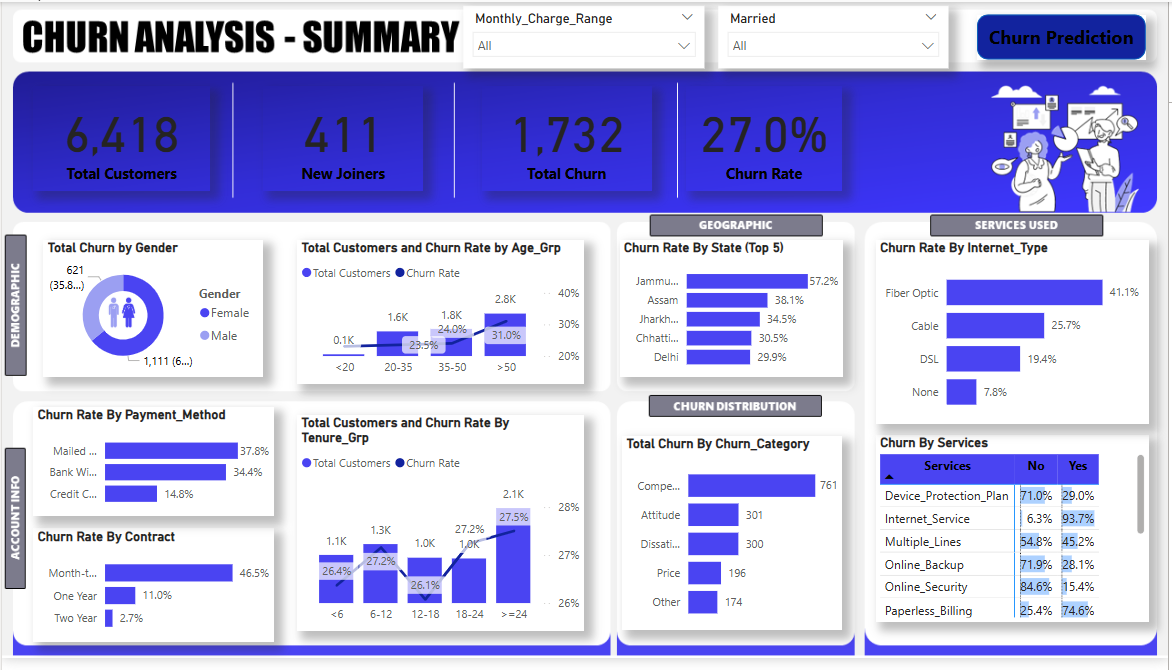

The dashboard page shown, as its layout file describes it:
{"tool":"powerbi","page":{"name":"Summary","canvas":[1280,720],"ordinal":0},"visuals":[{"type":"image","box":[90.7,314,82.6,52.3],"z":0},{"type":"donutChart","fields":{"Category":["prod_Churn.Gender"],"Y":["Table_Measures.Total Churn"]},"box":[45.3,260.5,241.9,150],"z":1000},{"type":"card","fields":{"Values":["Table_Measures.Total Customers"]},"box":[33.7,91.9,194.2,115.1],"z":2000},{"type":"card","fields":{"Values":["Table_Measures.New Joiners"]},"box":[287.2,91.9,175.6,115.1],"z":3000},{"type":"card","fields":{"Values":["Table_Measures.Total Churn"]},"box":[526.7,91.9,186,115.1],"z":4000},{"type":"card","fields":{"Values":["Table_Measures.Churn Rate"]},"box":[751.2,91.9,172.1,115.1],"z":5000},{"type":"lineStackedColumnComboChart","fields":{"Category":["Mapping_AgeGrp.Age_Grp"],"Y":["Table_Measures.Total Customers"],"Y2":["Table_Measures.Churn Rate"]},"box":[324.4,260.5,315.1,158.1],"z":6000},{"type":"clusteredBarChart","title":"Churn Rate By Payment_Method","fields":{"Category":["prod_Churn.Payment_Method"],"Y":["Table_Measures.Churn Rate"]},"box":[33.7,444.2,264,119.8],"z":7000},{"type":"clusteredBarChart","title":"Churn Rate By Contract","fields":{"Category":["prod_Churn.Contract"],"Y":["Table_Measures.Churn Rate"]},"box":[33.7,577.9,264,124.4],"z":8000},{"type":"lineStackedColumnComboChart","title":"Total Customers and Churn Rate By Tenure_Grp","fields":{"Category":["Mapping_TenureGrp.Tenure_Grp"],"Y":["Table_Measures.Total Customers"],"Y2":["Table_Measures.Churn Rate"]},"box":[324.4,453.5,315.1,237.2],"z":9000},{"type":"clusteredBarChart","title":"Churn Rate By State (Top 5)","fields":{"Category":["prod_Churn.State"],"Y":["Table_Measures.Churn Rate"]},"box":[677.9,260.5,245.3,151.2],"z":10000},{"type":"clusteredBarChart","title":"Total Churn By Churn_Category","fields":{"Category":["prod_Churn.Churn_Category"],"Y":["Table_Measures.Total Churn"]},"box":[680.2,476.7,241.9,214],"z":11000},{"type":"clusteredBarChart","title":"Churn Rate By Internet_Type","fields":{"Category":["prod_Churn.Internet_Type"],"Y":["Table_Measures.Churn Rate"]},"box":[959.3,260.5,300,202.3],"z":12000},{"type":"pivotTable","title":"Churn By Services","fields":{"Rows":["prod_churn_services.Services"],"Columns":["prod_churn_services.Status"],"Values":["Sum(prod_churn_services.Churn_Status)"]},"box":[959.3,474.4,300,205.8],"z":13000},{"type":"slicer","fields":{"Values":["prod_Churn.Monthly_Charge_Status"]},"box":[506.3,4.1,264.8,68.6],"z":14000},{"type":"slicer","fields":{"Values":["prod_Churn.Married"]},"box":[786.3,4.1,252.5,68.6],"z":15000},{"type":"shape","box":[1070.3,13.7,185.2,49.4],"z":16000}]}

Visuals, with their boxes in screenshot pixels (x1, y1, x2, y2), scaled from the page's 1280x720 canvas onto the 1172x670 screenshot:
image: 83:292:159:341
donutChart - prod_Churn.Gender x Table_Measures.Total Churn: 41:242:263:382
card - Table_Measures.Total Customers: 31:86:209:193
card - Table_Measures.New Joiners: 263:86:424:193
card - Table_Measures.Total Churn: 482:86:653:193
card - Table_Measures.Churn Rate: 688:86:845:193
lineStackedColumnComboChart - Mapping_AgeGrp.Age_Grp x Table_Measures.Total Customers: 297:242:586:390
"Churn Rate By Payment_Method" clusteredBarChart: 31:413:273:525
"Churn Rate By Contract" clusteredBarChart: 31:538:273:654
"Total Customers and Churn Rate By Tenure_Grp" lineStackedColumnComboChart: 297:422:586:643
"Churn Rate By State (Top 5)" clusteredBarChart: 621:242:845:383
"Total Churn By Churn_Category" clusteredBarChart: 623:444:844:643
"Churn Rate By Internet_Type" clusteredBarChart: 878:242:1153:431
"Churn By Services" pivotTable: 878:441:1153:633
slicer - prod_Churn.Monthly_Charge_Status: 464:4:706:68
slicer - prod_Churn.Married: 720:4:951:68
shape: 980:13:1150:59
